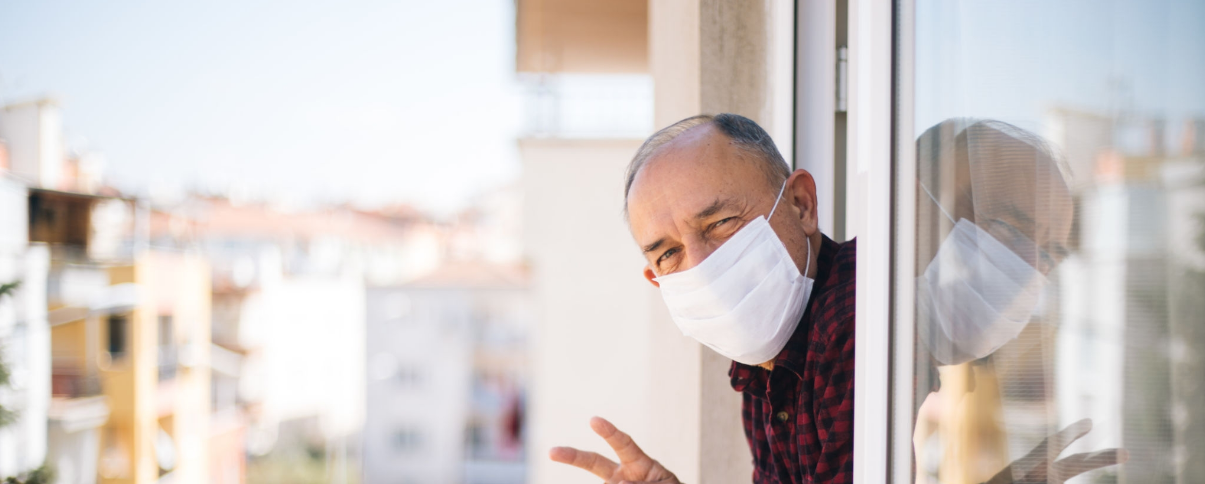with_mask: (612, 150, 812, 361)
